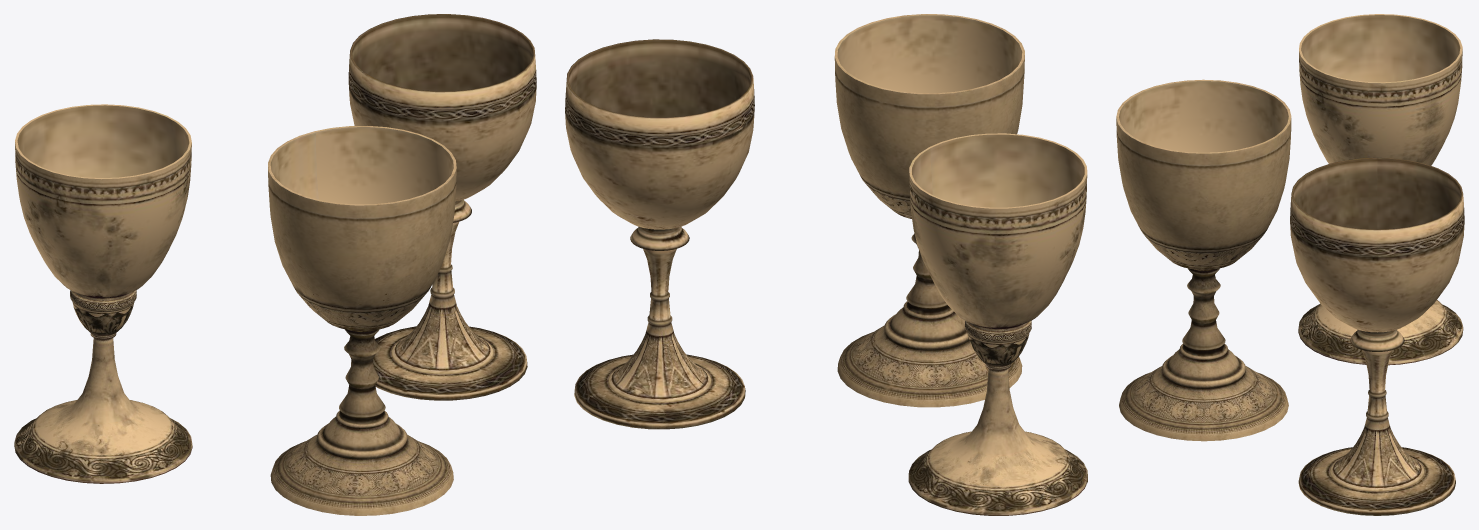
The model's file is brass_goblets.glb.
3 views of the same model, side by side, from view 1: azimuth 30°, elevation 25°; view 2: azimuth 150°, elevation 25°; view 3: azimuth 270°, elevation 25° (orthographic). The views are drawn at different scales.
Visible parts, largest first — view 1: brass_goblet_01, brass_goblet_02, brass_goblet_03; view 2: brass_goblet_02, brass_goblet_03, brass_goblet_01; view 3: brass_goblet_01, brass_goblet_03, brass_goblet_02.
Boxes of the visible parts, x1,y1,x2,y2 form: brass_goblet_01: [268, 126, 456, 515]; brass_goblet_02: [14, 104, 192, 483]; brass_goblet_03: [348, 14, 536, 400]; brass_goblet_02: [908, 133, 1087, 515]; brass_goblet_03: [565, 39, 754, 429]; brass_goblet_01: [834, 14, 1024, 407]; brass_goblet_01: [1116, 79, 1291, 441]; brass_goblet_03: [1290, 157, 1464, 515]; brass_goblet_02: [1298, 14, 1463, 365].
Size of the model in its own units: 0.4534 by 0.2734 by 0.2976.
Materials: 3 (3 with a texture image).
